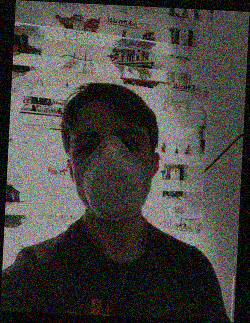with_mask: (70, 116, 153, 221)
